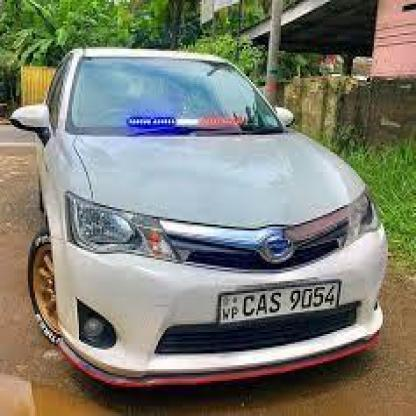car front: (8, 34, 394, 393)
number plate: (219, 285, 338, 324)
